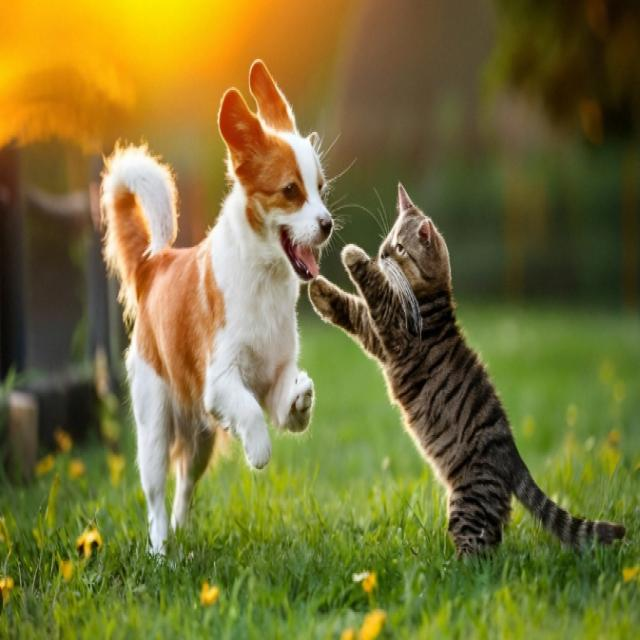cats: (342, 137, 583, 565)
dogs: (92, 94, 342, 514)
